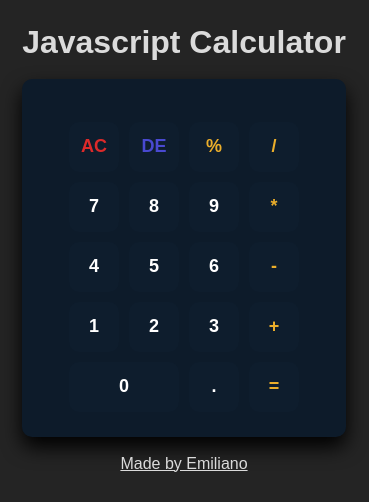
Test: Calculadora › porcentaje: 200 % = 2
Click the button "2".
click(154, 326)  # box top-left (129, 302), bottom-right (179, 352)
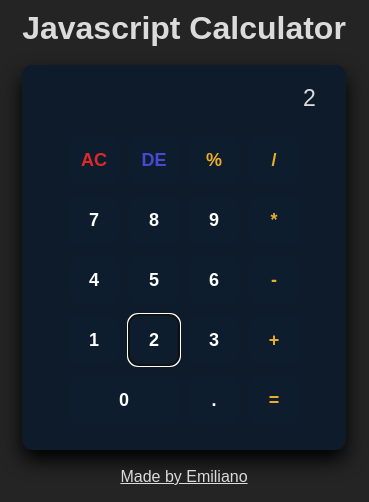
Click the button "0".
click(124, 400)  # box top-left (69, 375), bottom-right (179, 425)
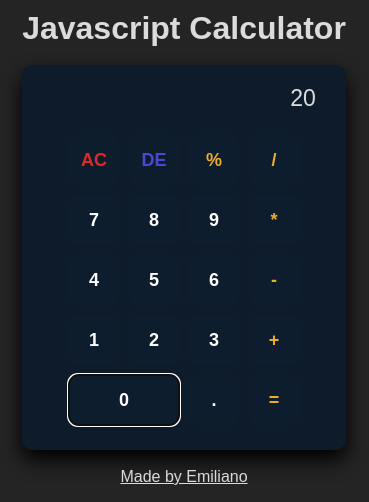
Click the button "0".
click(124, 400)  # box top-left (69, 375), bottom-right (179, 425)
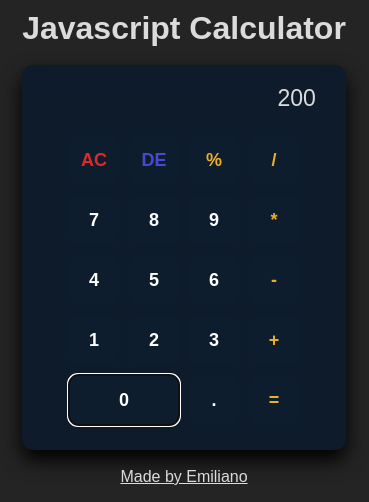
Click the button "=".
click(274, 400)  # box top-left (249, 375), bottom-right (299, 425)
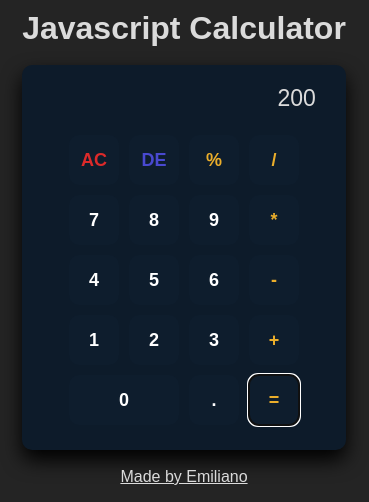
Expected: the text with test id "answer" reads "200", top-left (278, 85), bottom-right (316, 111)
Click the button "%".
click(214, 160)  # box top-left (189, 135), bottom-right (239, 185)
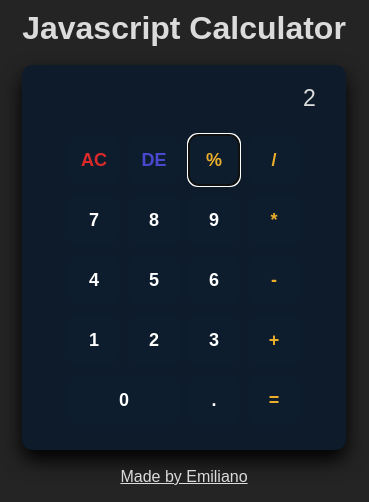
Expected: the text with test id "answer" reads "2", top-left (303, 85), bottom-right (316, 111)
